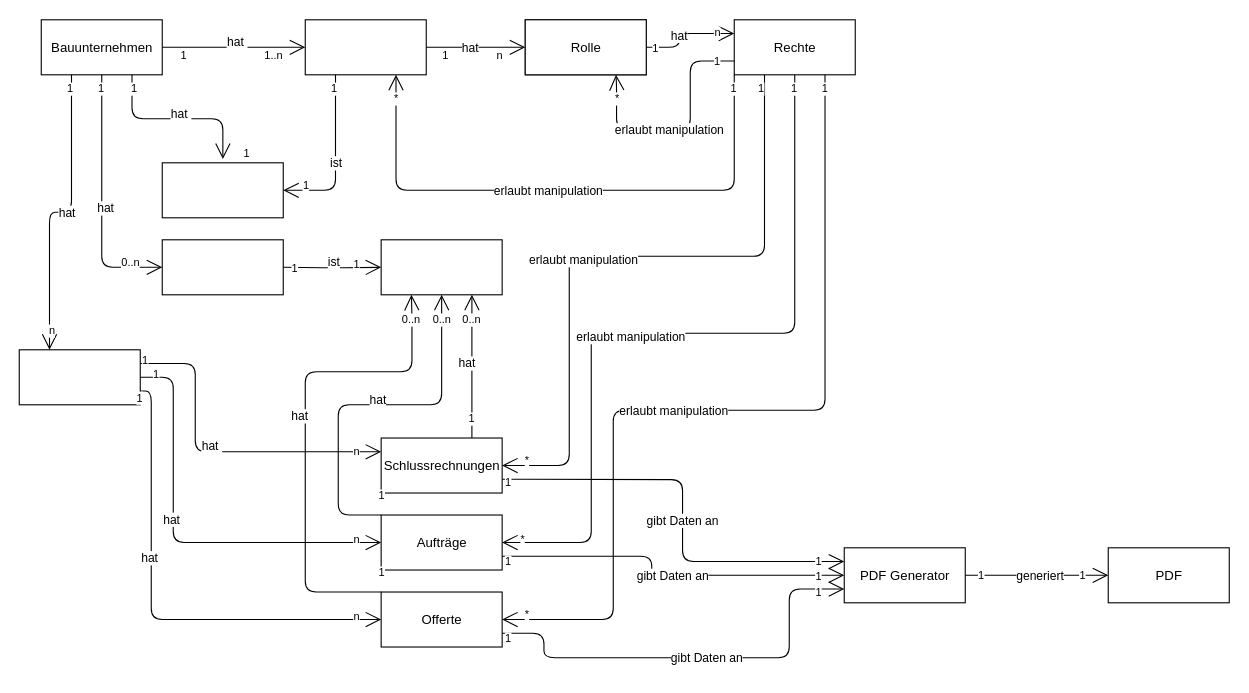
The diagram is 1249 pixels wide and 693 high, and some of its shapes have lost their labels. The shapes that lost their labels are listed below. From the top down, each one's box as (x1, y1, x2, y2) in pixels, then its label:
(304, 19, 426, 75): Mitarbeiter
(161, 162, 283, 218): Eigentümer
(161, 239, 283, 295): Manuelle Artikel
(380, 239, 502, 295): Artikel
(18, 349, 140, 405): Projekte
